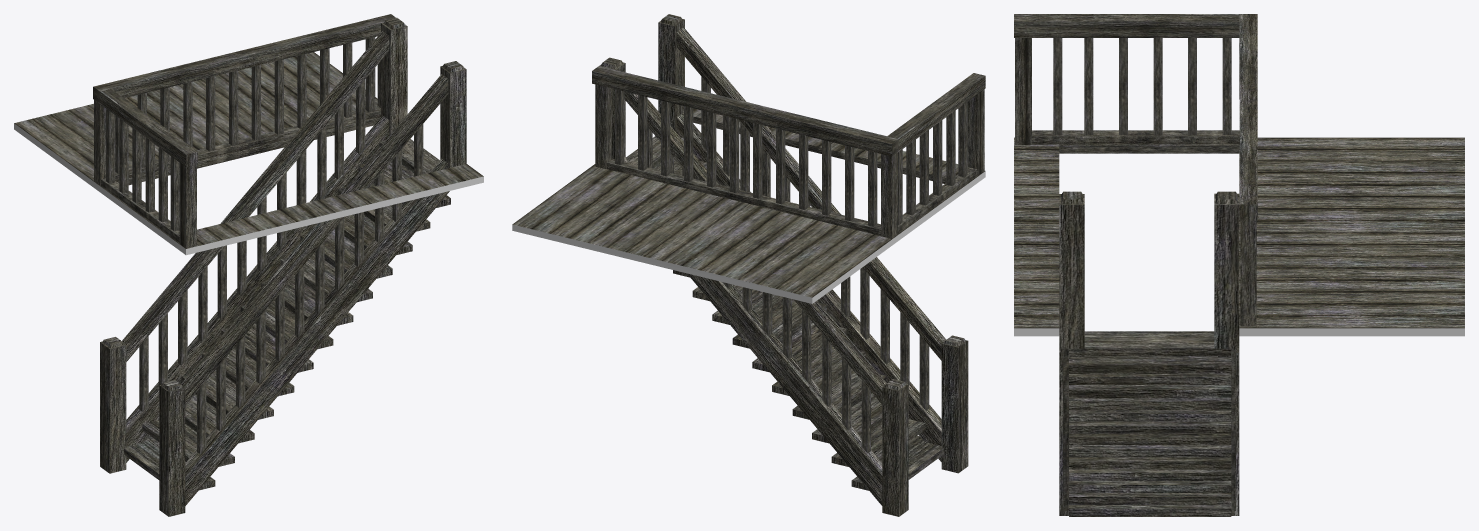
Rendered from CK staircase.dae.
3 views of the same model, side by side, from view 1: azimuth 30°, elevation 25°; view 2: azimuth 150°, elevation 25°; view 3: azimuth 270°, elevation 25° (orthographic). The views are drawn at different scales.
Visible parts, largest first — view 1: Cube; view 2: Cube; view 3: Cube.
Part boxes in pixels (x1,y1,x2,y2): Cube: (14, 14, 483, 516); Cube: (512, 14, 985, 516); Cube: (1014, 14, 1464, 516).
Size of the model in its own units: 5 by 5 by 6.06.
6 materials, 2 textured.
